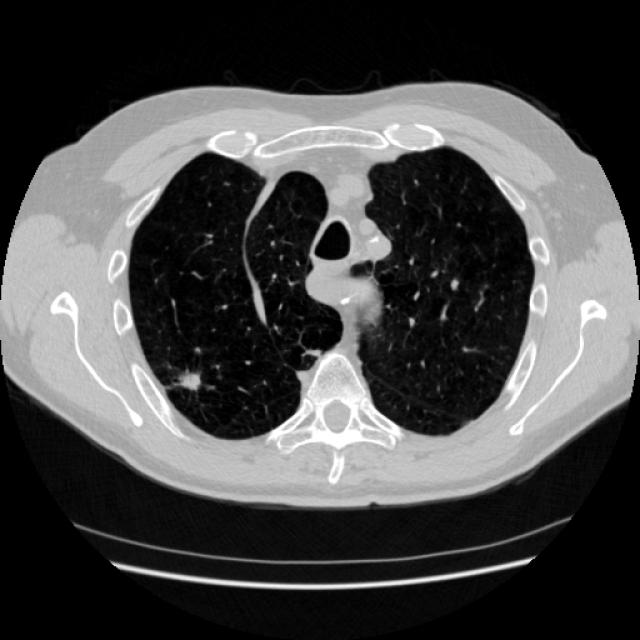nodule: (155, 350, 217, 412)
